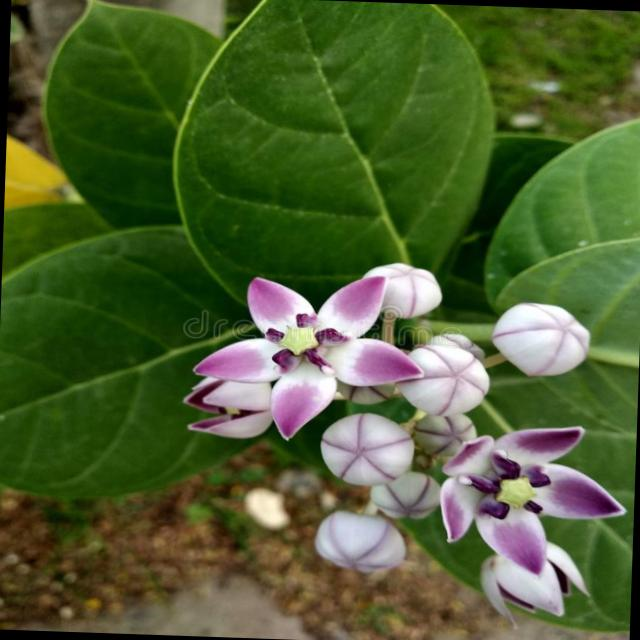Poisonous-Calatropis: (152, 247, 640, 640), (68, 0, 502, 379)
